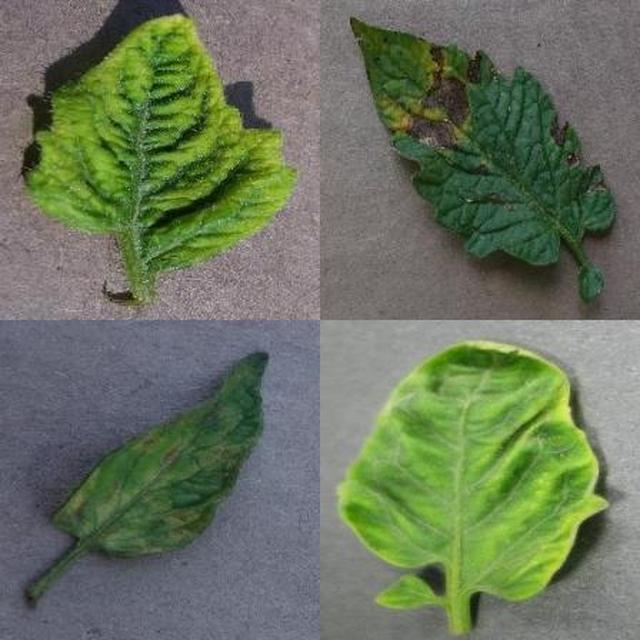Yellow Leaf Curl Virus: (231, 204, 640, 640)
